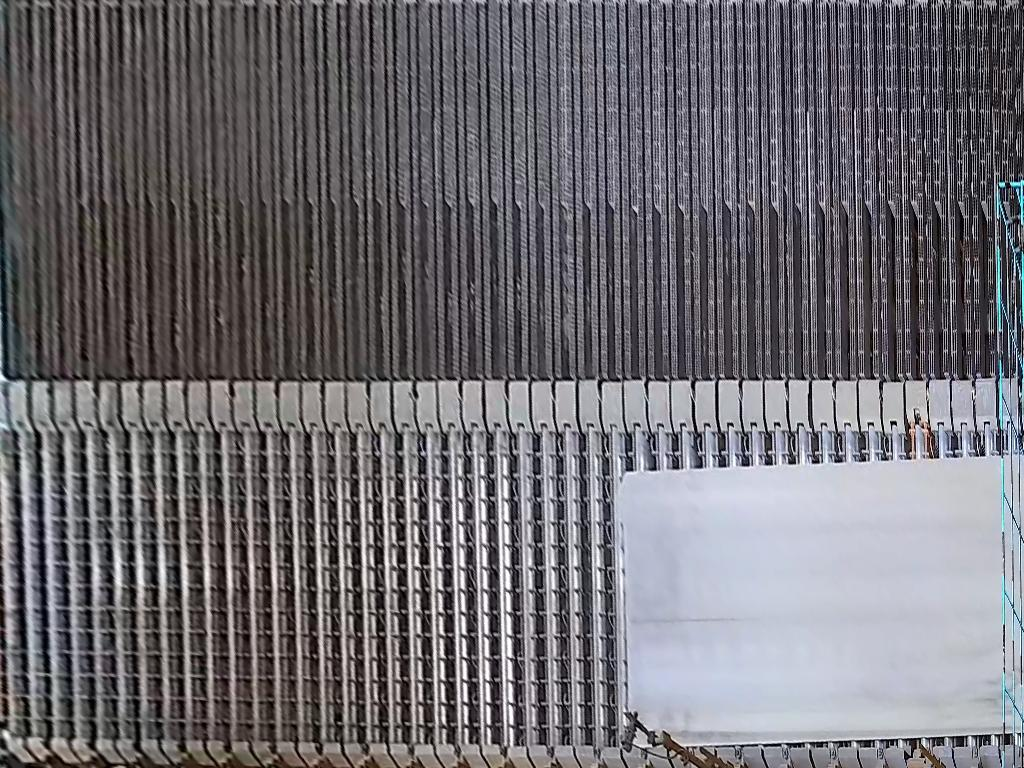steel: (618, 453, 1024, 749)
